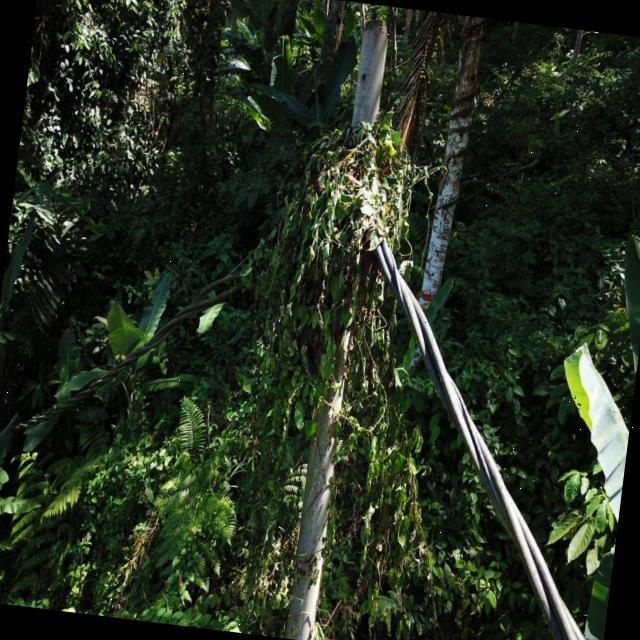critical vegetation: (215, 96, 458, 590)
